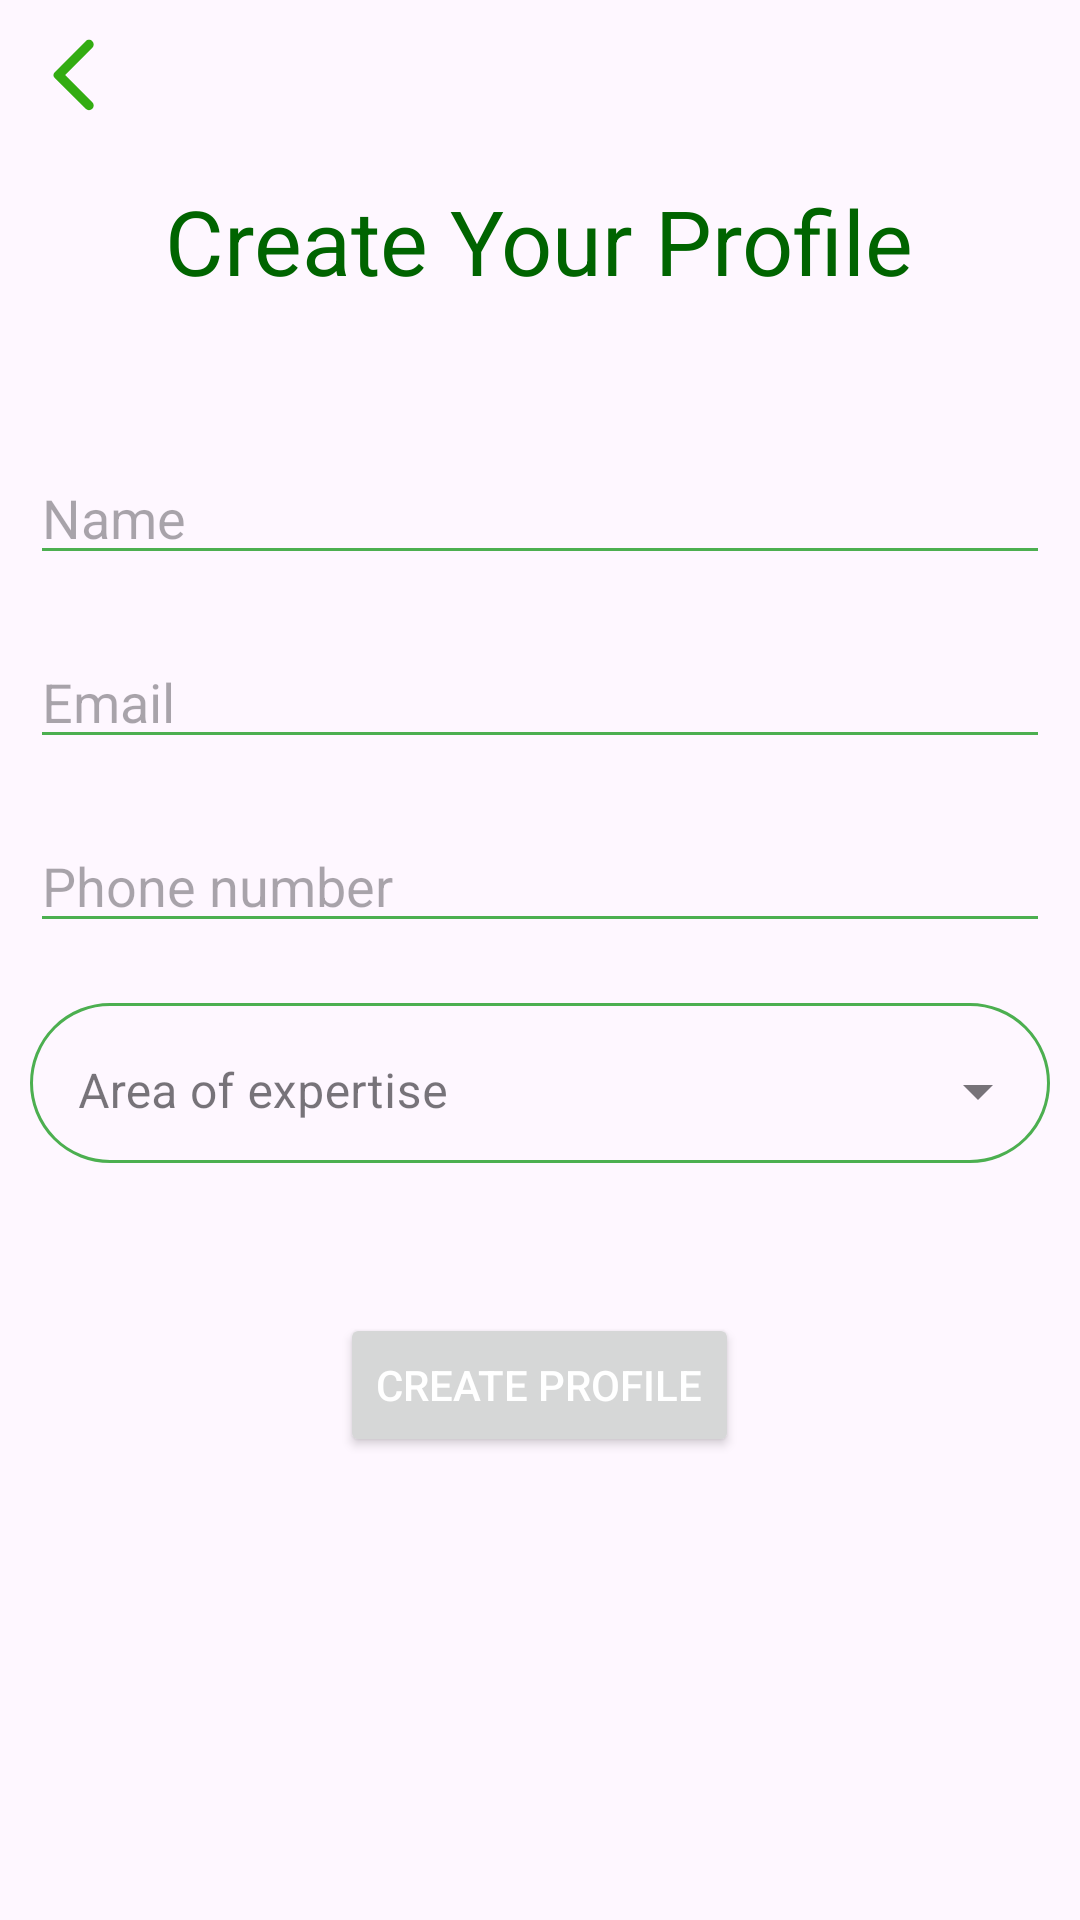

Icon bounding boxes for this 1080 x 1920 phone screenshot, format (x1, y1, x2, y2):
arrow back: (53, 39, 94, 111)
